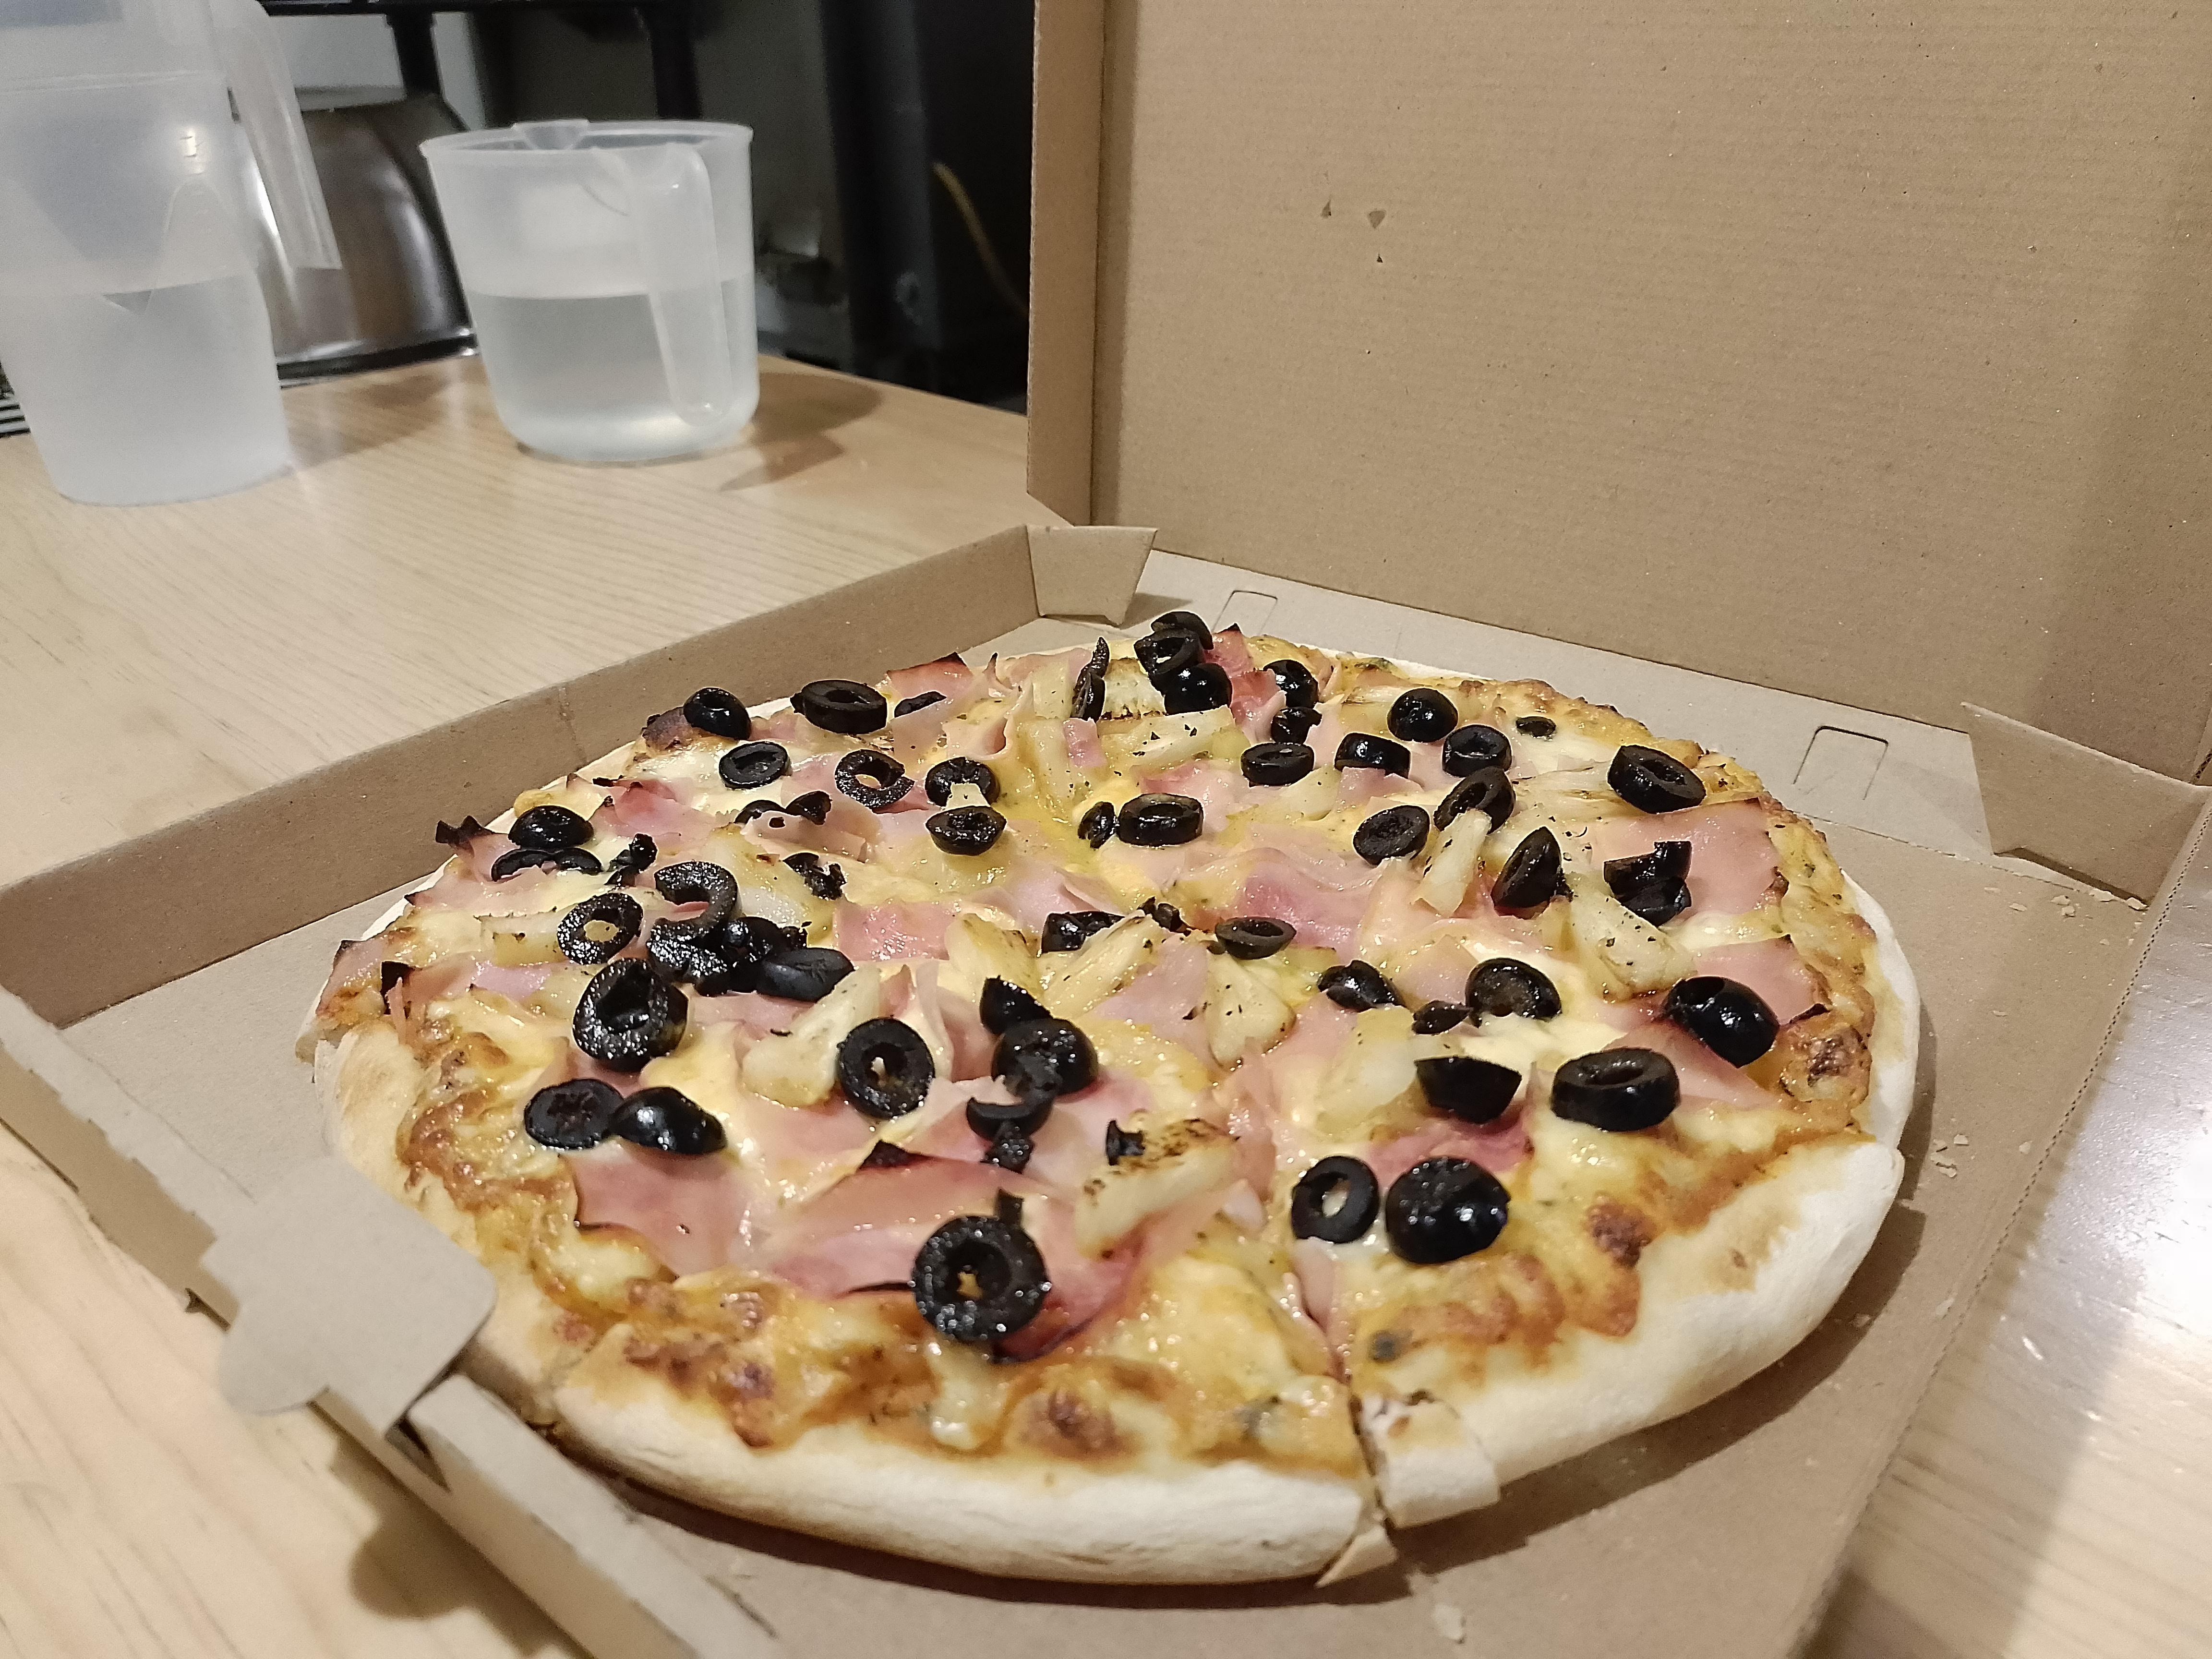Ham: (784, 1141, 1155, 1368), (690, 955, 1012, 1140), (552, 1136, 779, 1290), (1576, 802, 1799, 913), (1205, 833, 1388, 950), (1592, 1016, 1794, 1121), (773, 749, 963, 847), (1362, 1080, 1541, 1183), (397, 817, 577, 913), (984, 857, 1151, 946), (1681, 936, 1831, 1033), (1184, 634, 1318, 739), (1336, 728, 1484, 821), (589, 770, 728, 866), (1099, 955, 1228, 1053), (878, 657, 1005, 748), (824, 884, 970, 962), (1130, 760, 1264, 828), (449, 946, 566, 1007), (336, 934, 437, 995)
Olives: (913, 1209, 1050, 1352), (1378, 1157, 1510, 1265), (566, 957, 686, 1070), (1656, 967, 1778, 1070), (1548, 1044, 1683, 1131), (829, 1012, 937, 1117), (653, 918, 787, 995), (1602, 728, 1710, 821), (1599, 831, 1696, 931), (1404, 1047, 1522, 1127), (989, 1012, 1103, 1094), (1289, 1155, 1383, 1249), (625, 1084, 728, 1162), (516, 1079, 624, 1152), (1491, 821, 1571, 918), (1465, 950, 1559, 1032), (650, 861, 738, 939), (556, 889, 644, 960), (826, 742, 913, 810), (1120, 784, 1207, 847), (1388, 673, 1460, 748), (792, 676, 888, 732), (1355, 800, 1433, 866), (970, 965, 1050, 1028), (927, 748, 1010, 805), (484, 838, 603, 878), (1325, 946, 1393, 1016), (747, 951, 852, 997), (1130, 629, 1216, 683), (679, 681, 758, 739), (1437, 723, 1517, 779), (928, 802, 1007, 857), (1217, 904, 1296, 957), (963, 1100, 1052, 1145), (1068, 640, 1113, 727), (510, 796, 594, 843), (782, 852, 857, 904), (1160, 660, 1233, 713), (712, 744, 794, 789), (1045, 904, 1118, 955), (1336, 734, 1409, 781), (1233, 744, 1318, 784), (604, 833, 658, 892), (1258, 652, 1325, 699), (1134, 897, 1191, 941), (1268, 699, 1320, 742), (1071, 800, 1115, 852), (1512, 708, 1557, 739)
Pizza: (294, 631, 1923, 1591), (1237, 978, 1357, 1166)
